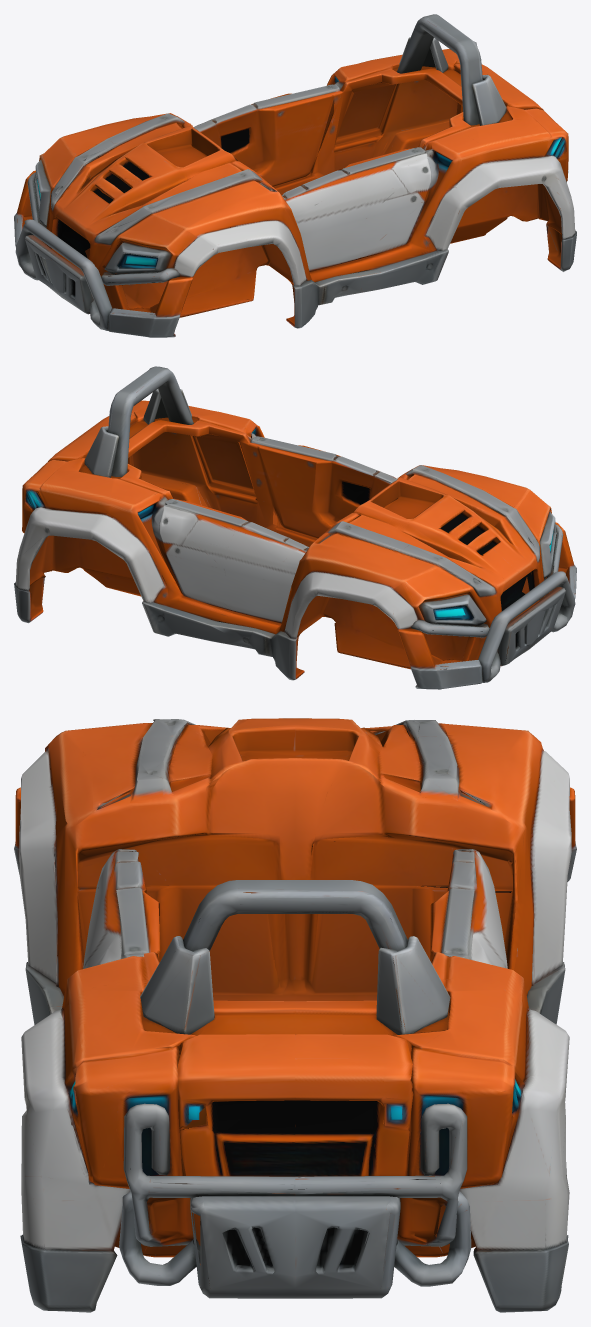
The model's file is vehicle_03.glb.
3 renders of one model, top to bottom at view 1: azimuth 30°, elevation 25°; view 2: azimuth 150°, elevation 25°; view 3: azimuth 270°, elevation 25°, orthographic. The views are drawn at different scales.
Parts seen in each view (by area): view 1: geometry_0; view 2: geometry_0; view 3: geometry_0.
Boxes of the visible parts, x1,y1,x2,y2 form: geometry_0: (14,14,576,337); geometry_0: (14,366,576,689); geometry_0: (14,718,576,1312).
Bounding box in the file's own units: 0.9551 × 0.3882 × 0.521.
1 material, 1 textured.
